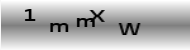1: (22, 8, 35, 21)
W: (118, 22, 141, 35)
X: (89, 8, 106, 23)
m: (48, 21, 70, 33), (76, 17, 96, 28)
